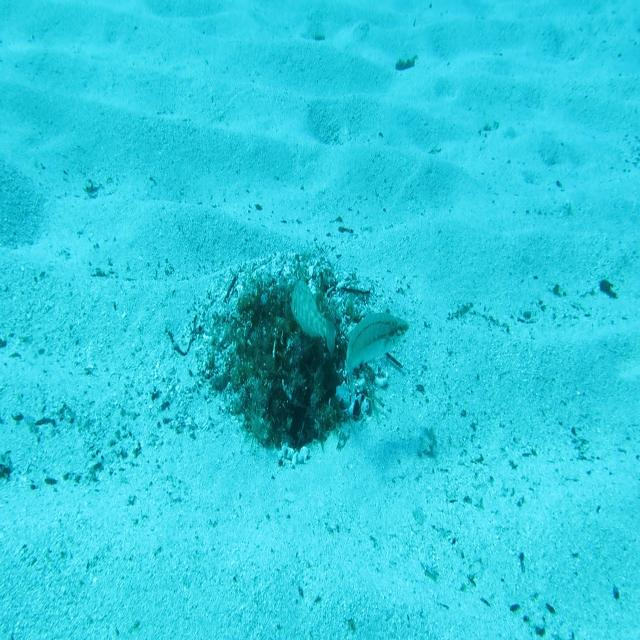NIP_CORE: (287, 270, 339, 358)
core_nest: (265, 298, 309, 357)
female: (345, 307, 413, 408)
nest: (178, 226, 394, 480)
vegetation: (395, 51, 419, 74)
